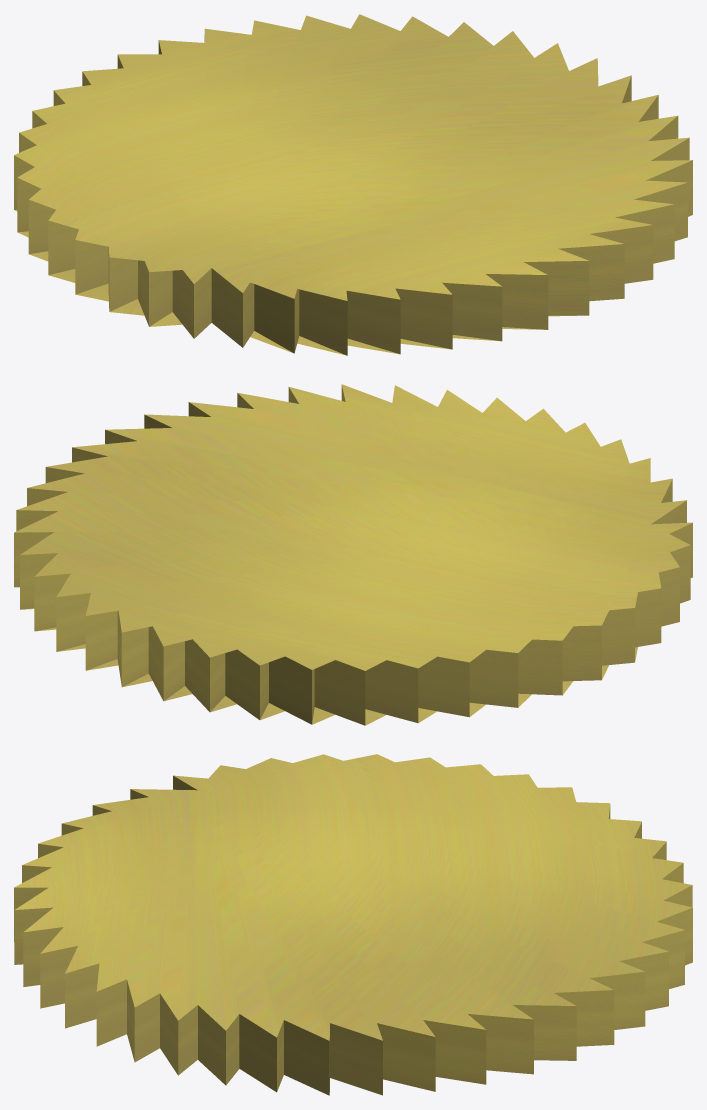
File: ClockAngle040.fbx
3 renders of one model, top to bottom at view 1: azimuth 30°, elevation 25°; view 2: azimuth 150°, elevation 25°; view 3: azimuth 270°, elevation 25°, orthographic.
Visible parts, largest first — view 1: ClockAngle040; view 2: ClockAngle040; view 3: ClockAngle040.
Boxes of the visible parts, x1,y1,x2,y2 form: ClockAngle040: (14, 14, 692, 355); ClockAngle040: (14, 384, 692, 725); ClockAngle040: (14, 754, 692, 1095).
Size of the model in its own units: 221 by 19.69 by 221.
